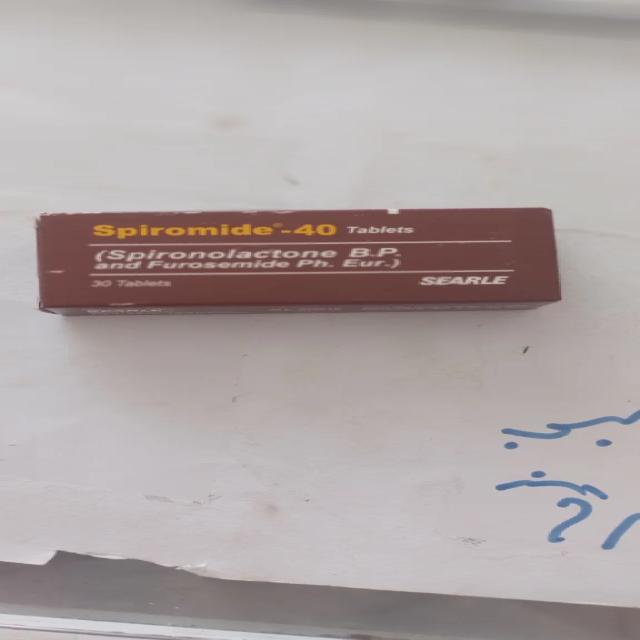drug-name: (90, 224, 337, 238)
